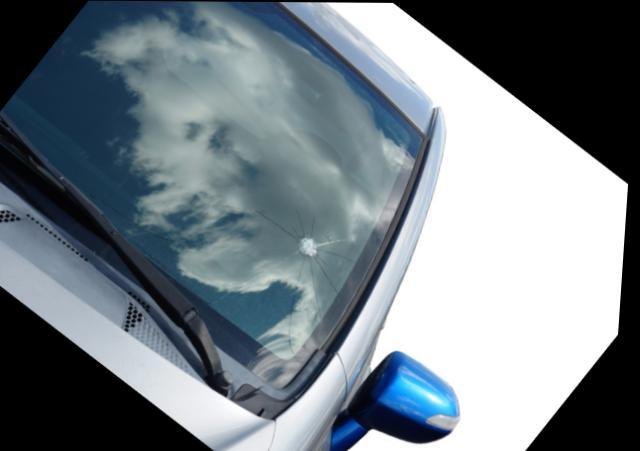glass shatter: (0, 1, 424, 388)
